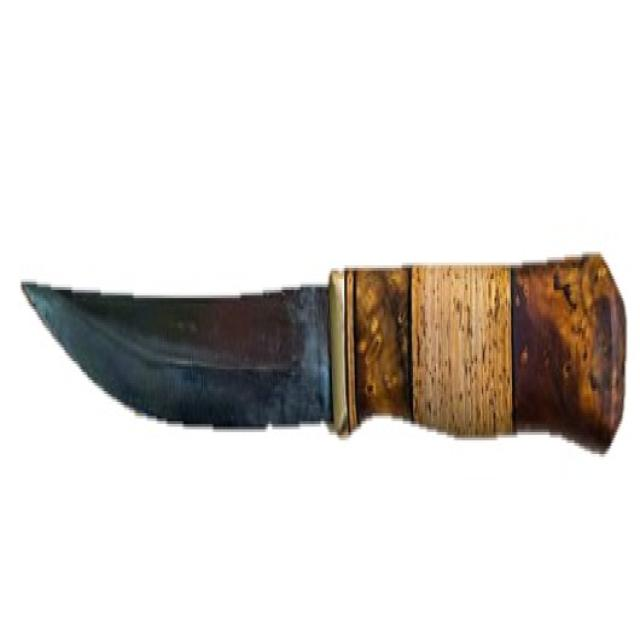knife: (19, 257, 632, 465)
